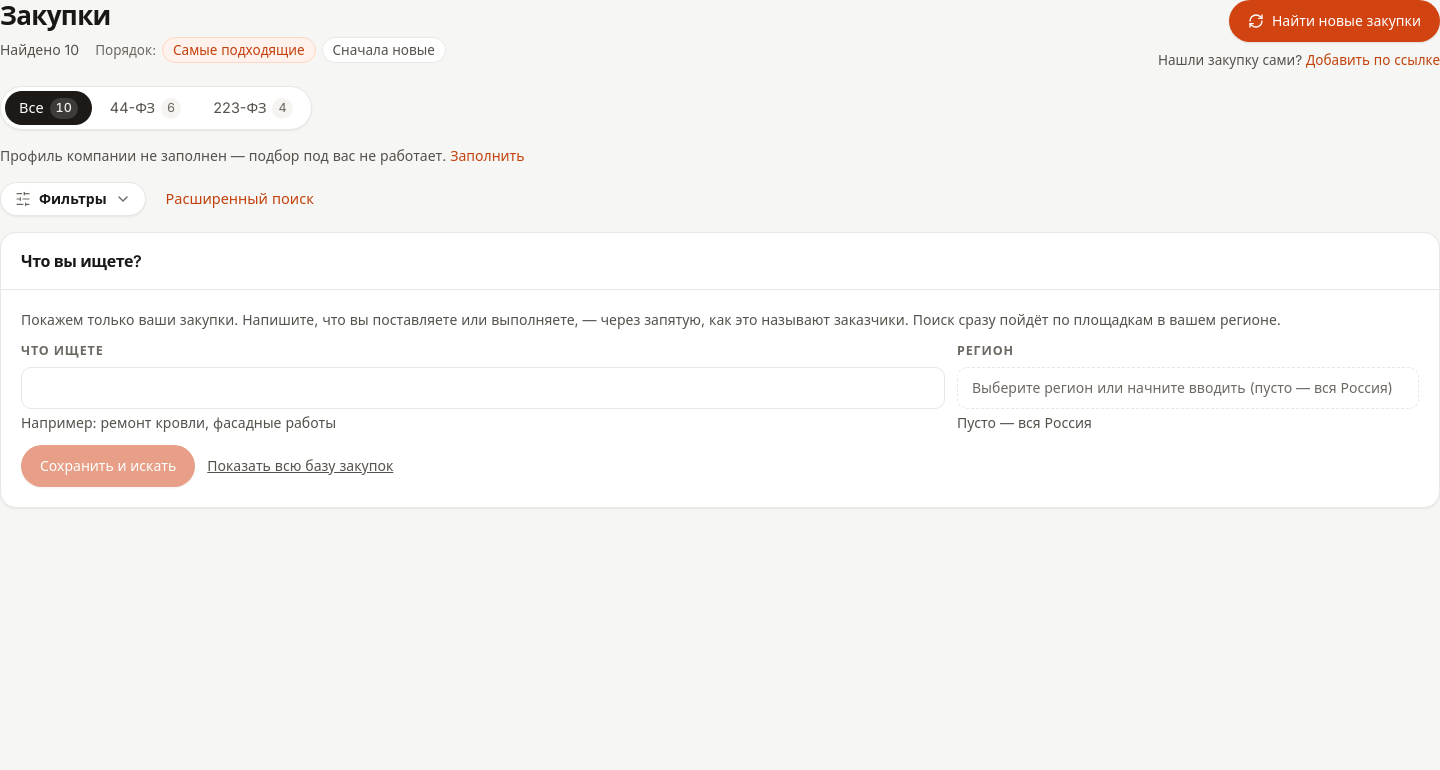
it: TendersView — фильтры в адресной строке › переключатель «Скрыть закрытые» попадает в адрес и в чипы
Click the button "Фильтры". click: point(73, 199)
box: [0,182,146,216]
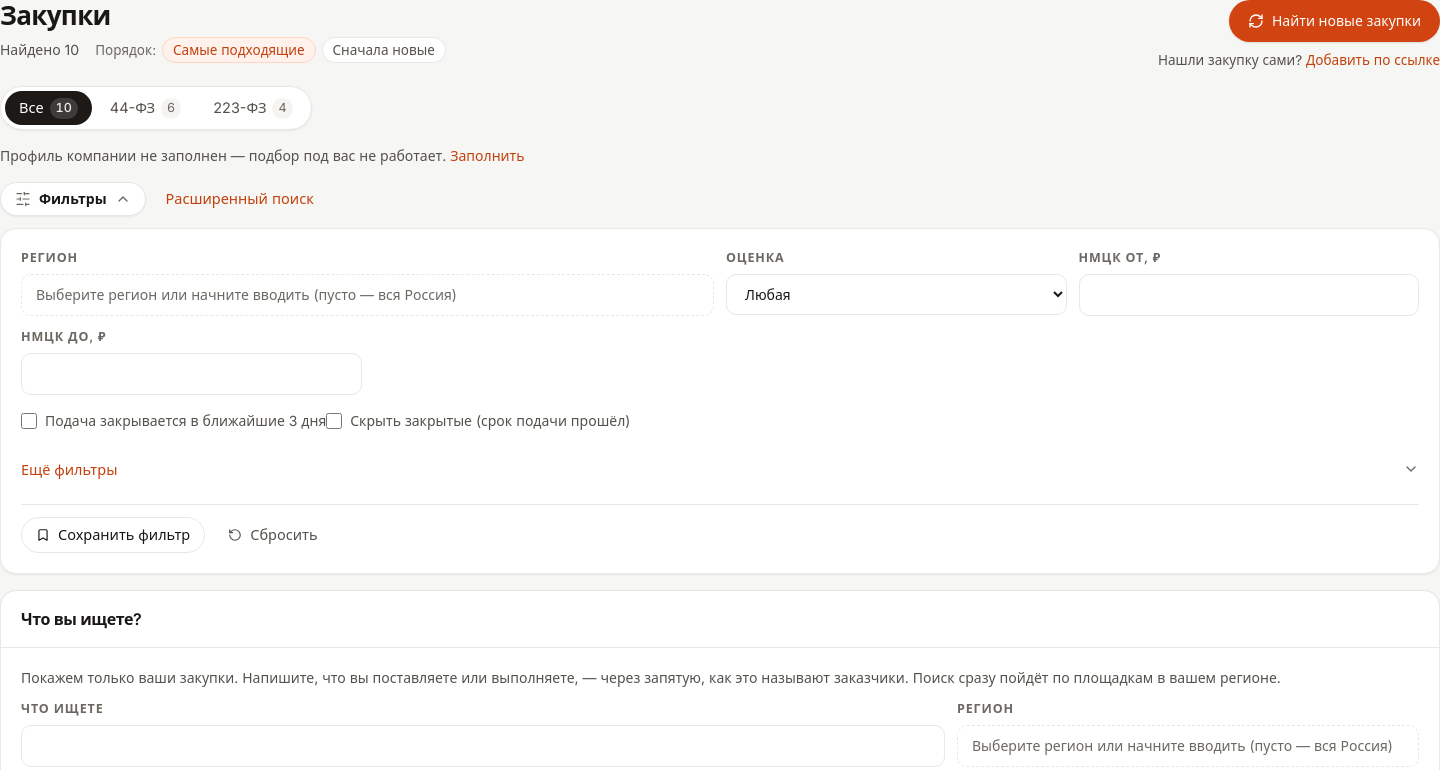
Click the checkbox labelled "Скрыть закрытые (срок подачи прошёл)". click: point(334, 420)
box: [326,412,342,428]
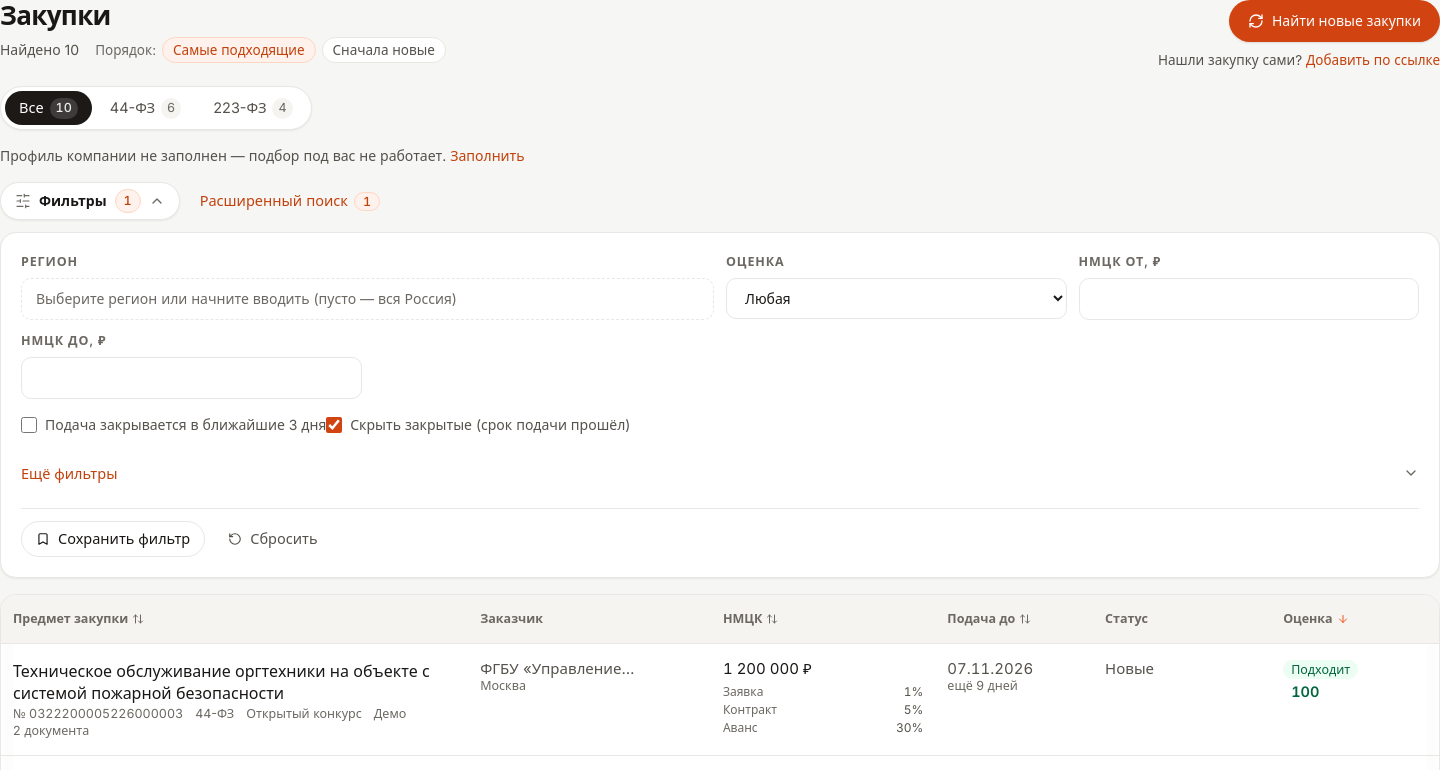
Click the button "Расширенный поиск1". click: point(290, 201)
box: [200,190,380,212]
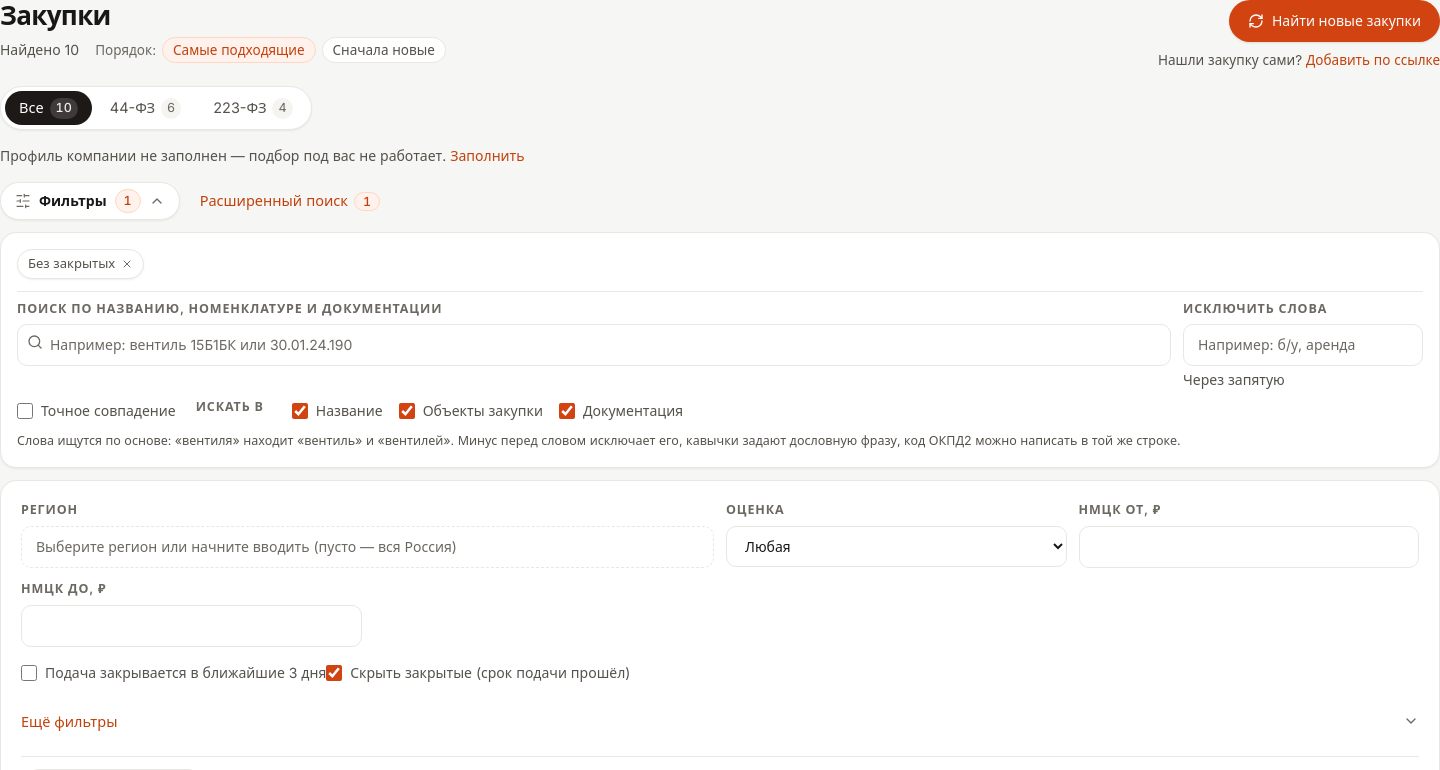
Check: the text "Без закрытых" is shown, box [28,254,115,274]
